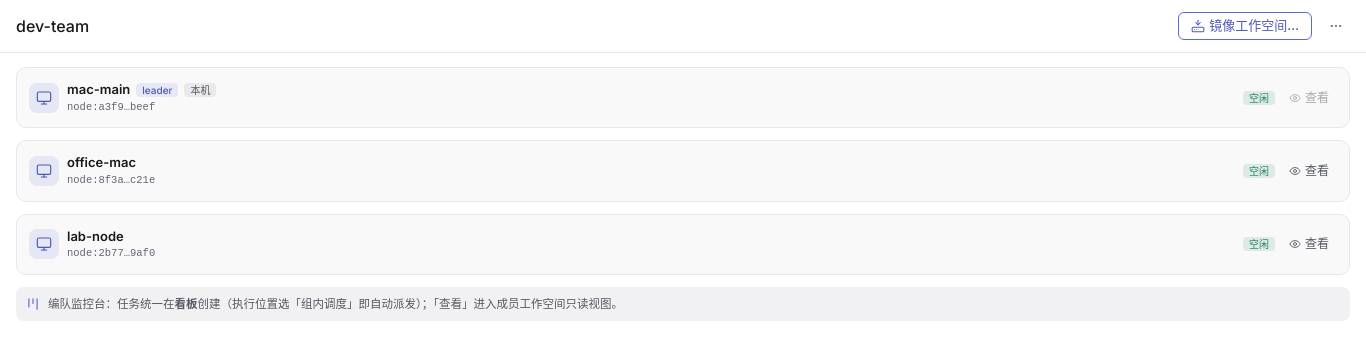
Test: GroupMonitor › 无码时组头不设独立按钮——组菜单「重新生成邀请码」是唯一入口，点击走 groupInvite
Check: the button "生成邀请码" is not shown
Click the button named "组操作菜单 dev-team".
click(1336, 26)  # box x1=1322 y1=12 x2=1350 y2=40
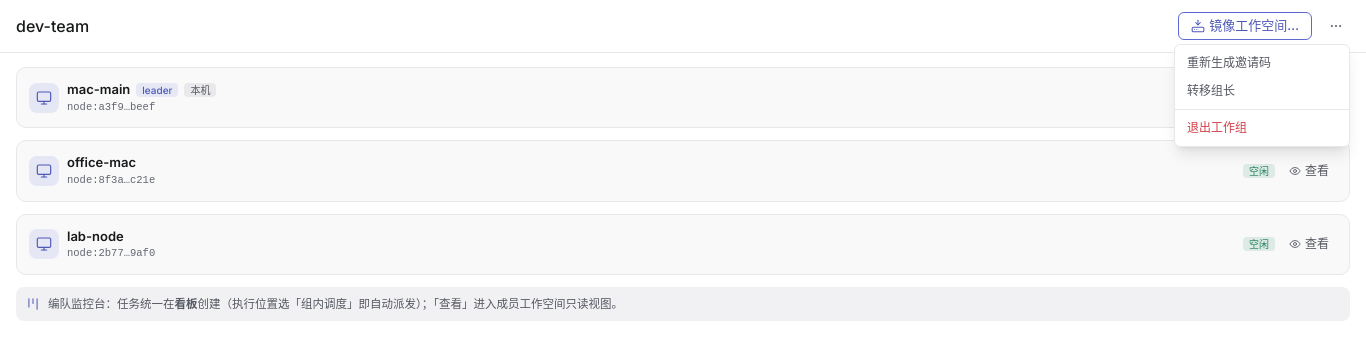
Click the button "重新生成邀请码".
click(1262, 63)  # box x1=1175 y1=49 x2=1349 y2=77
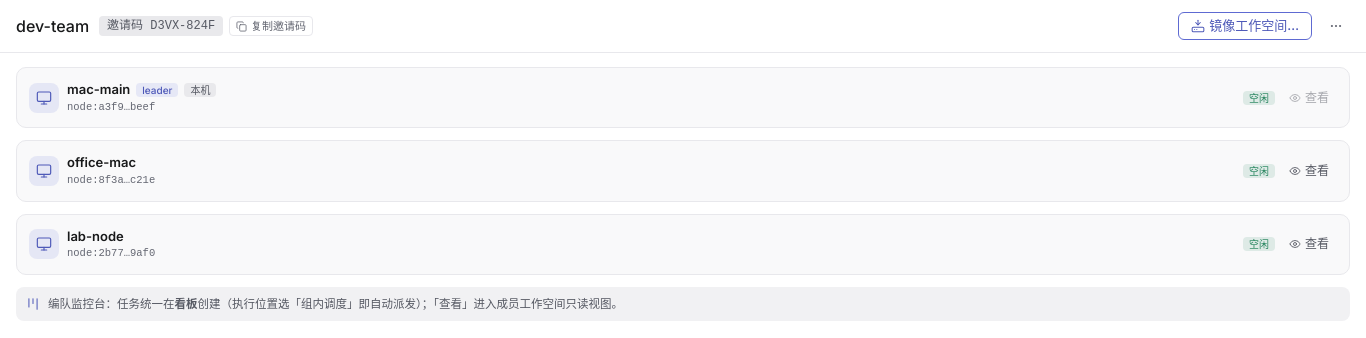
Check: the text "邀请码 D3VX-824F" is shown, box x1=99 y1=16 x2=223 y2=36
